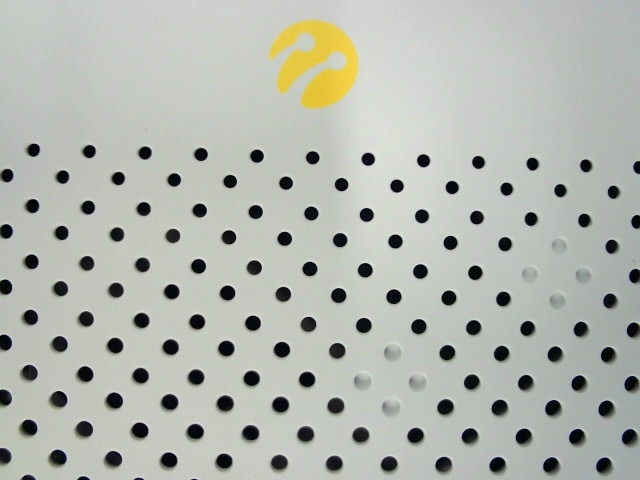AV_H3600Yellow: (256, 6, 379, 122)
